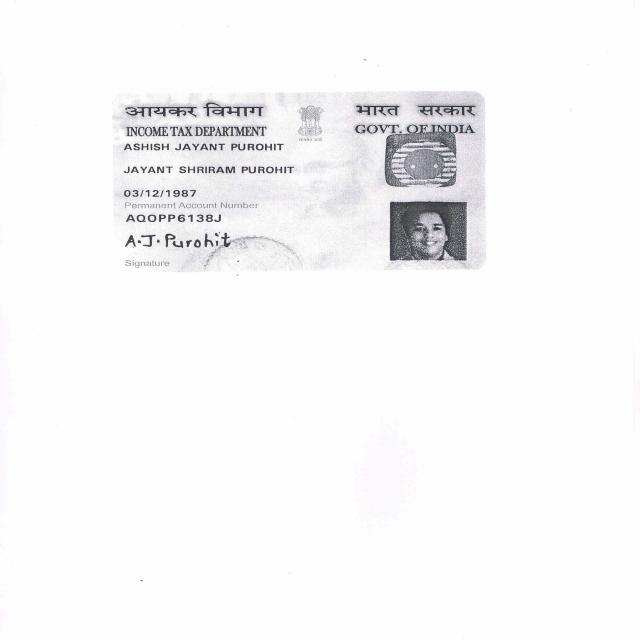pan_card: (107, 79, 496, 283)
